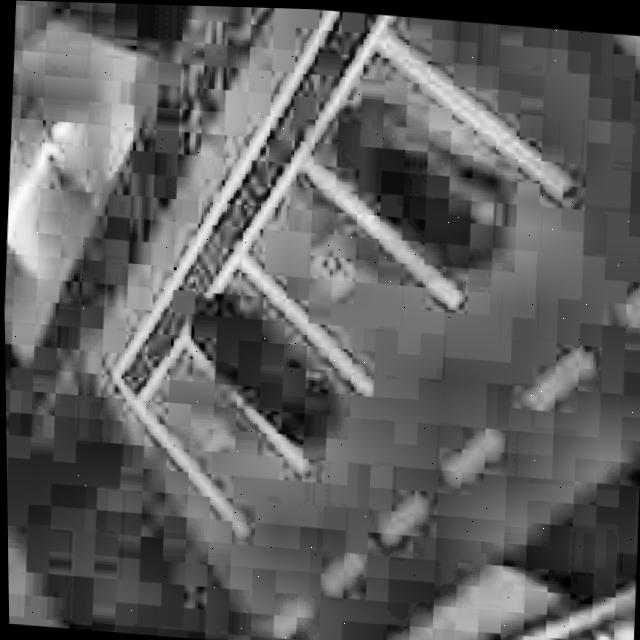car: (308, 78, 530, 278), (166, 272, 357, 457)
